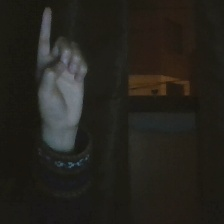D: (29, 4, 94, 134)
